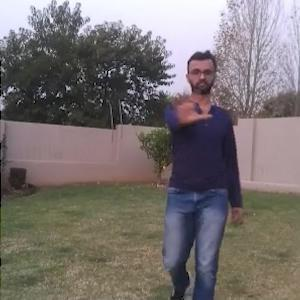follow_hand: (163, 80, 214, 125)
